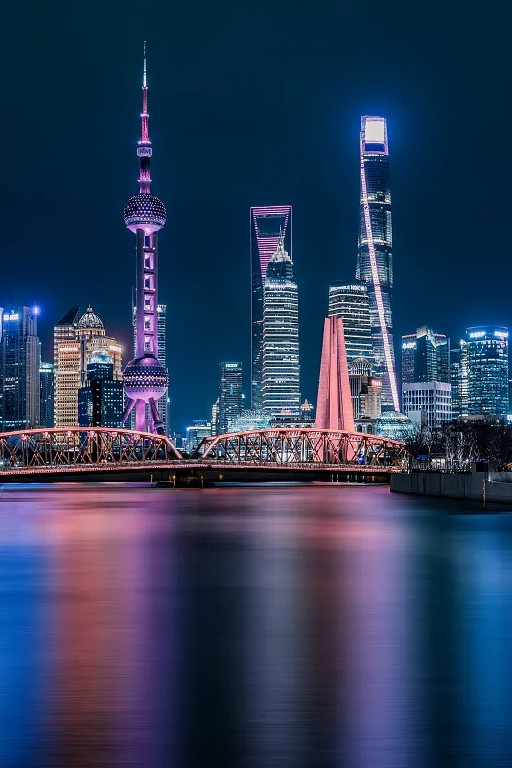Oriental: (122, 40, 168, 435)
